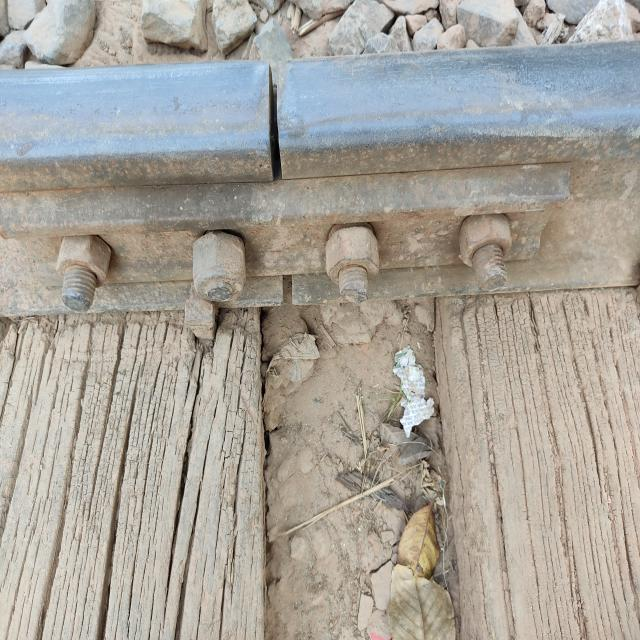Faults: (255, 51, 298, 188)
